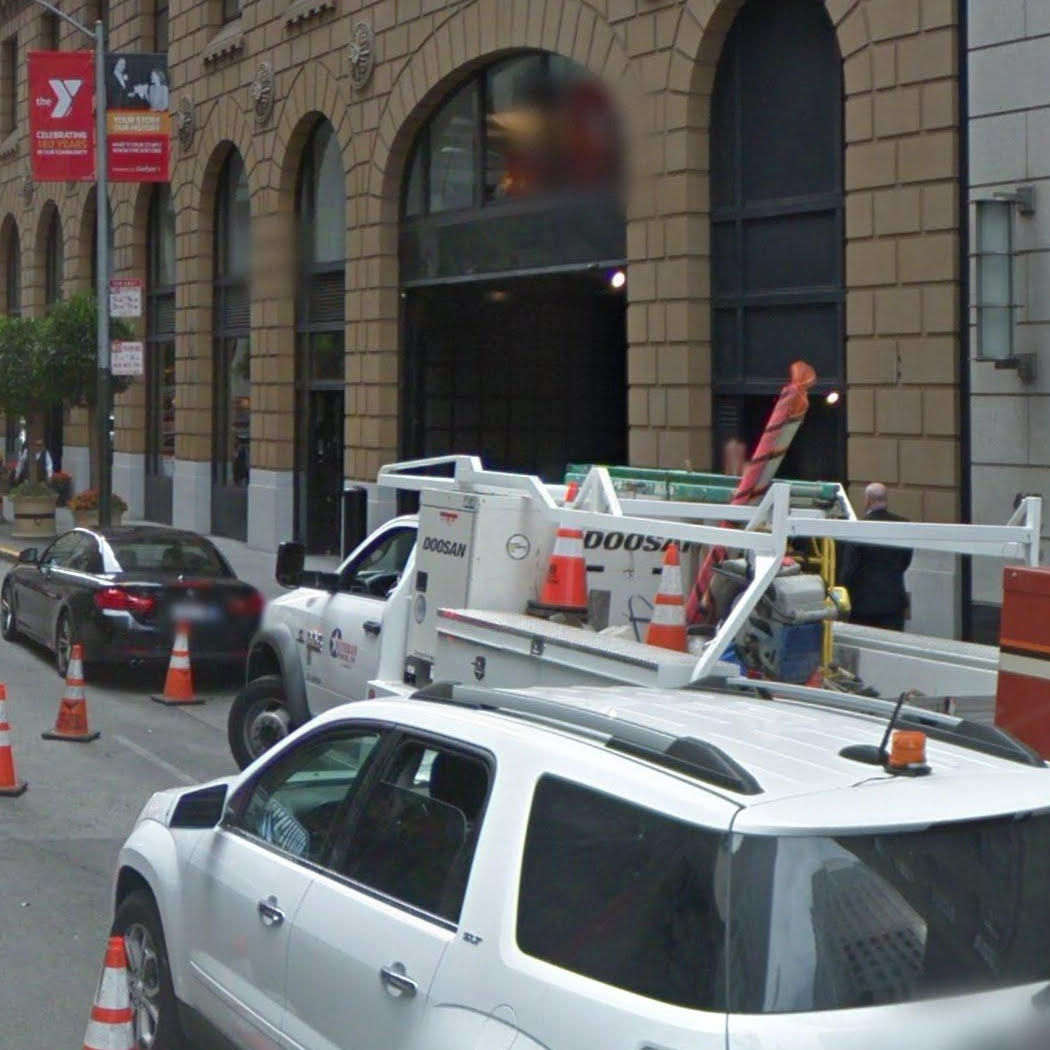No Parking: (109, 339, 145, 376)
